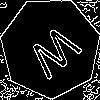W: (25, 23, 89, 88)
